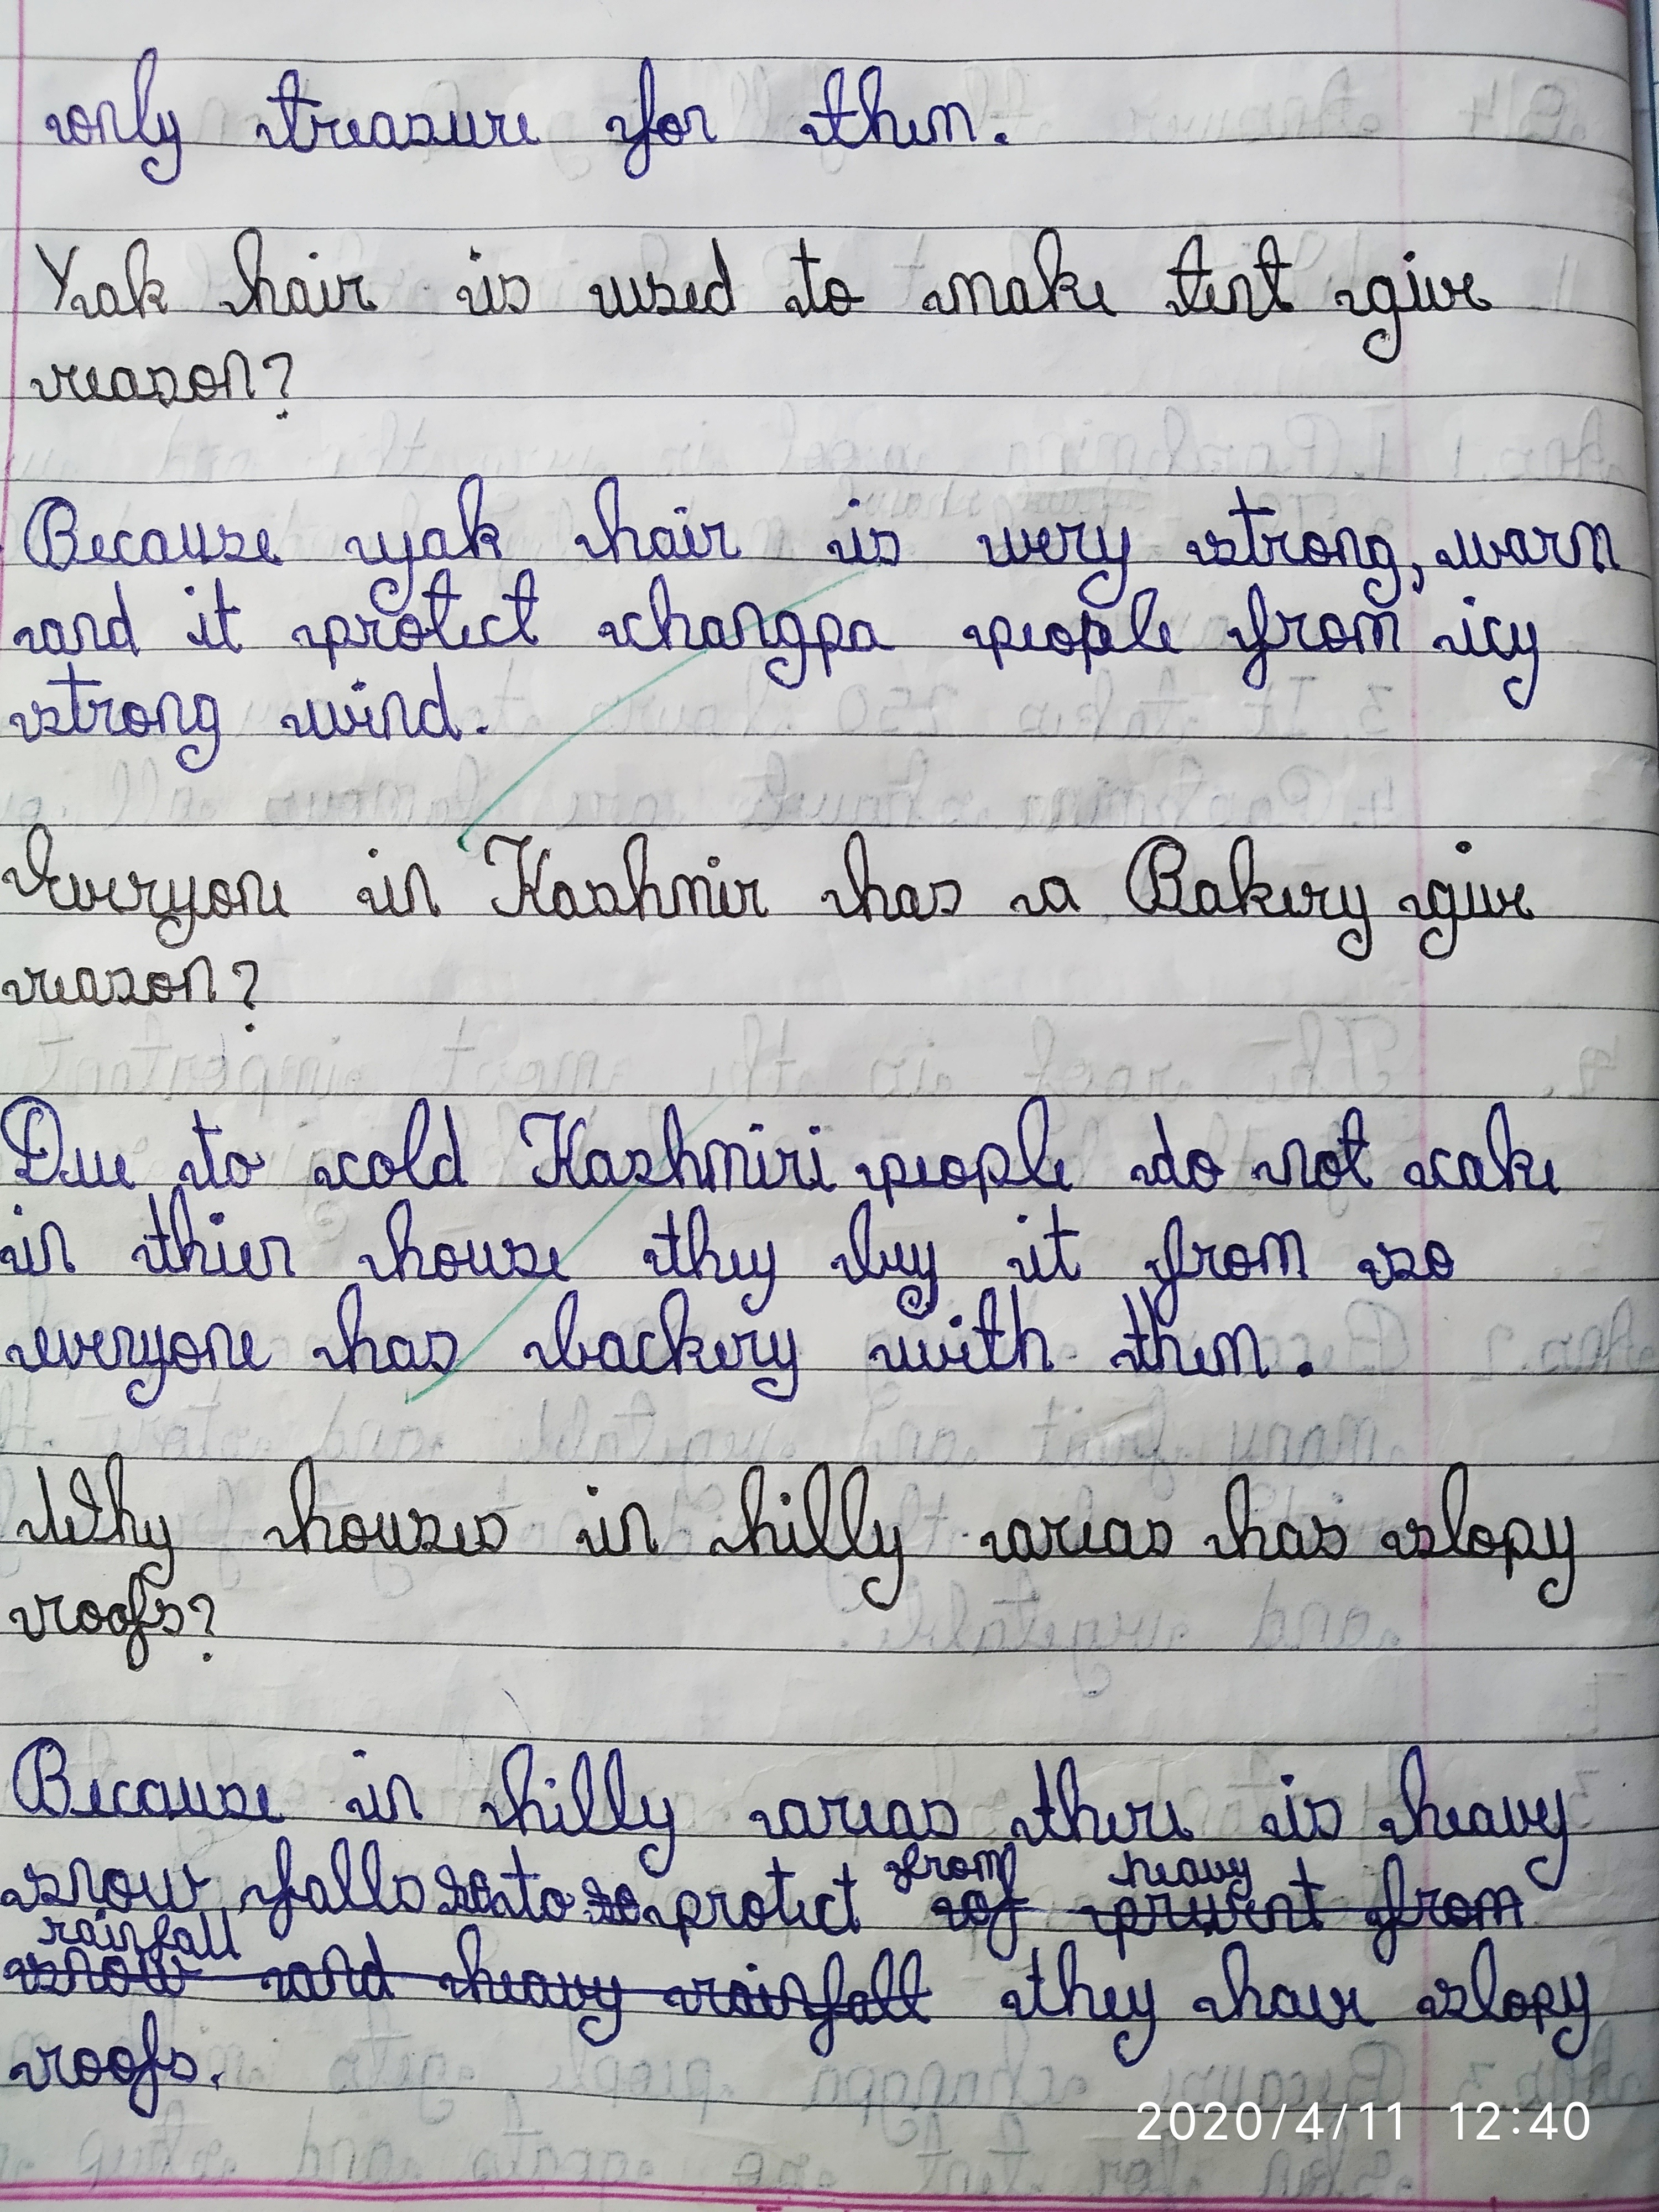B: (1124, 833, 1188, 918), (10, 1735, 75, 1818), (30, 495, 78, 573)
D: (0, 1096, 68, 1186)
K: (483, 833, 552, 918), (518, 1108, 586, 1191)
W: (35, 1463, 103, 1547)
Y: (33, 240, 78, 314)
a: (1035, 873, 1080, 914), (592, 1329, 633, 1374), (775, 1796, 816, 1841), (134, 1777, 174, 1820), (547, 878, 586, 923), (1100, 1515, 1138, 1561), (1004, 1515, 1039, 1564), (882, 1797, 920, 1841), (1265, 1980, 1305, 2020), (366, 110, 404, 152), (582, 1146, 620, 1188), (382, 1331, 420, 1372), (1274, 1519, 1309, 1562), (1455, 1150, 1490, 1191), (301, 1871, 333, 1916), (418, 524, 455, 563), (1192, 878, 1229, 916), (282, 275, 315, 317), (138, 528, 174, 564), (106, 366, 145, 401), (38, 617, 71, 657), (892, 881, 925, 921), (1466, 1799, 1499, 1839), (1004, 273, 1035, 315), (92, 280, 125, 319), (73, 965, 103, 1007), (647, 526, 681, 561), (847, 618, 882, 653), (1504, 526, 1534, 566), (699, 615, 730, 650)
b: (847, 1198, 894, 1280), (552, 1287, 592, 1372)
c: (425, 566, 458, 650), (633, 1329, 666, 1374), (1480, 615, 1511, 658), (333, 1148, 364, 1191), (1427, 1146, 1457, 1190), (620, 610, 650, 651), (812, 1892, 838, 1933), (110, 529, 138, 566), (479, 611, 507, 648), (110, 1778, 134, 1818)
d: (411, 658, 464, 740), (430, 1103, 469, 1188), (702, 237, 741, 317), (1148, 1111, 1183, 1188), (105, 578, 138, 651)
e: (30, 1324, 56, 1369), (235, 1329, 261, 1372), (253, 528, 279, 564), (1033, 526, 1056, 564), (87, 533, 112, 564)
f: (1152, 1212, 1190, 1329), (622, 54, 657, 181), (1237, 582, 1276, 691), (127, 2008, 162, 2120), (265, 1834, 300, 1942), (125, 1571, 153, 1674)
g: (174, 691, 223, 775), (1361, 273, 1403, 364), (1417, 878, 1460, 963), (763, 610, 809, 691), (1363, 533, 1403, 610)
h: (842, 827, 894, 925), (234, 226, 284, 317), (289, 1453, 335, 1554), (335, 1280, 382, 1376), (500, 1742, 549, 1834), (594, 475, 647, 561), (737, 1465, 784, 1557), (1398, 1743, 1443, 1839), (1054, 1756, 1103, 1844), (167, 1183, 213, 1277), (1007, 1282, 1054, 1372), (1223, 1472, 1270, 1562), (856, 64, 904, 150), (622, 831, 666, 921), (101, 1449, 141, 1547), (648, 573, 699, 650), (383, 1197, 427, 1284), (1145, 1285, 1187, 1376), (1220, 1939, 1265, 2020), (662, 1103, 704, 1188), (1054, 1939, 1098, 2020), (687, 1204, 725, 1284)
i: (369, 846, 404, 918), (803, 1123, 836, 1193), (1018, 1214, 1051, 1284), (1457, 840, 1485, 920), (12, 1204, 42, 1277), (589, 1482, 619, 1555), (777, 1491, 809, 1559), (359, 1749, 387, 1824), (207, 1211, 239, 1277), (307, 251, 338, 315), (469, 251, 500, 315), (183, 583, 214, 648), (1279, 1771, 1307, 1843), (1455, 594, 1485, 658), (749, 1122, 775, 1191), (950, 1313, 979, 1374), (843, 496, 870, 564), (547, 1777, 577, 1836), (671, 505, 702, 559), (711, 855, 737, 918), (1401, 249, 1425, 312), (357, 678, 382, 740)
k: (1485, 1101, 1539, 1193), (1032, 226, 1087, 314), (659, 1287, 709, 1374), (1227, 833, 1277, 916), (457, 472, 504, 561), (124, 237, 169, 315)
l: (800, 1460, 838, 1561), (127, 42, 164, 146), (1014, 1094, 1054, 1188), (838, 1463, 873, 1562), (1436, 1461, 1471, 1559), (401, 1097, 434, 1191), (601, 1747, 634, 1834), (1469, 1935, 1500, 2020), (570, 1749, 598, 1838), (329, 1836, 361, 1911), (359, 1836, 389, 1914), (1127, 585, 1161, 653), (1183, 1146, 1223, 1195)
m: (1209, 1322, 1270, 1379), (945, 268, 1002, 317), (1256, 1228, 1309, 1280), (1567, 519, 1621, 570), (702, 1136, 753, 1190), (1351, 608, 1405, 655), (924, 101, 981, 145), (667, 871, 716, 918)
n: (615, 1500, 660, 1555), (37, 1219, 77, 1275), (376, 686, 415, 740), (730, 599, 772, 648), (152, 690, 188, 738), (181, 954, 218, 1003), (221, 348, 256, 399), (235, 867, 268, 918), (204, 1322, 237, 1371), (1279, 1137, 1310, 1188), (94, 98, 127, 145), (1331, 526, 1364, 568), (71, 610, 105, 651), (1227, 272, 1256, 317)
o: (99, 1865, 134, 1916), (1314, 610, 1352, 655), (167, 1329, 204, 1376), (429, 1240, 467, 1284), (1420, 1238, 1457, 1284), (336, 1512, 371, 1555), (204, 876, 237, 921), (936, 1151, 972, 1191), (185, 361, 220, 402), (118, 698, 153, 740), (364, 1148, 399, 1190), (1310, 1148, 1344, 1191), (737, 1888, 769, 1933), (392, 613, 427, 653), (823, 277, 856, 319), (64, 103, 96, 146), (71, 2045, 103, 2088), (143, 968, 178, 1007), (221, 1150, 254, 1190), (1220, 1242, 1253, 1282), (105, 2043, 136, 2085), (1042, 620, 1075, 658), (1466, 1521, 1497, 1561), (1300, 529, 1333, 566), (537, 1886, 568, 1925), (653, 111, 687, 146), (73, 1599, 105, 1635), (1500, 1987, 1530, 2024)
p: (1077, 610, 1115, 676), (974, 1141, 1012, 1207), (1500, 1515, 1537, 1583), (674, 1886, 704, 1951), (816, 611, 843, 679), (322, 613, 354, 671), (878, 1151, 910, 1209), (986, 613, 1014, 672), (1530, 1980, 1556, 2036)
qqbslash: (1330, 2102, 1351, 2141), (1269, 2102, 1288, 2141)
qqcolon: (1507, 2101, 1523, 2142)
qqcoma: (1410, 561, 1425, 596)
qqfour: (1528, 2101, 1560, 2142), (1295, 2101, 1326, 2142)
qqfstop: (1297, 1360, 1316, 1379), (992, 131, 1011, 148), (474, 725, 490, 738)
qqone: (1448, 2101, 1467, 2142), (1385, 2101, 1405, 2142), (1358, 2101, 1377, 2141)
qqquestion: (230, 958, 261, 1035), (261, 350, 295, 421), (186, 1592, 216, 1663)
qqtwo: (1474, 2101, 1502, 2142), (1202, 2101, 1230, 2142), (1134, 2099, 1162, 2141)
qqzero: (1561, 2101, 1591, 2142), (1234, 2099, 1263, 2141), (1168, 2101, 1197, 2142)
r: (329, 272, 375, 314), (125, 866, 160, 918), (816, 1792, 859, 1834), (1054, 519, 1093, 564), (31, 1590, 70, 1635), (1274, 608, 1312, 651), (1530, 526, 1568, 568), (732, 876, 769, 920), (1298, 878, 1335, 921), (728, 1327, 765, 1371), (1122, 1799, 1159, 1843), (33, 2041, 68, 2087), (307, 113, 347, 150), (49, 361, 85, 401), (697, 519, 734, 559), (85, 695, 118, 737), (702, 1888, 735, 1930), (1260, 529, 1298, 564), (21, 965, 52, 1007), (774, 1146, 805, 1188), (481, 108, 514, 146), (352, 611, 385, 650), (1190, 1240, 1223, 1278)
s: (1307, 1512, 1349, 1564), (1302, 1796, 1345, 1843), (21, 1862, 64, 1907), (404, 1507, 444, 1554), (498, 1237, 542, 1278), (1377, 1240, 1422, 1280), (645, 270, 681, 317), (864, 524, 903, 566), (495, 272, 532, 315), (1403, 1515, 1438, 1561), (1434, 1975, 1469, 2019), (153, 1595, 186, 1639), (214, 523, 249, 563), (1204, 528, 1239, 568), (30, 698, 63, 737)
t: (1338, 1104, 1377, 1190), (1044, 1202, 1082, 1282), (972, 1285, 1007, 1372), (272, 66, 305, 153), (1255, 233, 1291, 312), (190, 1108, 225, 1190), (146, 1191, 179, 1275), (1032, 1757, 1063, 1843), (821, 66, 852, 148), (507, 1843, 538, 1925), (793, 237, 824, 317), (1121, 1291, 1152, 1371), (1234, 484, 1263, 568), (512, 566, 540, 646), (61, 660, 91, 735), (1023, 1946, 1053, 2019), (767, 1855, 796, 1926), (659, 1207, 688, 1277), (836, 1860, 863, 1935), (213, 577, 239, 650)
u: (606, 273, 647, 319), (176, 1773, 213, 1820), (73, 1144, 110, 1190), (462, 1237, 500, 1278), (176, 519, 211, 563), (371, 1510, 404, 1554), (446, 108, 481, 148)
v: (1499, 1794, 1532, 1839), (1422, 273, 1459, 314), (56, 1327, 87, 1371)
w: (894, 1331, 955, 1374), (303, 697, 359, 742)
y: (1521, 1787, 1570, 1895), (1077, 524, 1131, 610), (1112, 1977, 1159, 2069), (369, 528, 416, 618), (861, 1519, 906, 1613), (1535, 1514, 1579, 1611), (1549, 1970, 1593, 2064), (124, 1322, 167, 1411), (1500, 618, 1541, 712), (153, 874, 202, 951), (636, 1792, 678, 1881), (896, 1240, 941, 1322), (139, 108, 185, 186), (1335, 881, 1377, 963), (739, 1240, 777, 1318), (138, 1512, 176, 1590)
